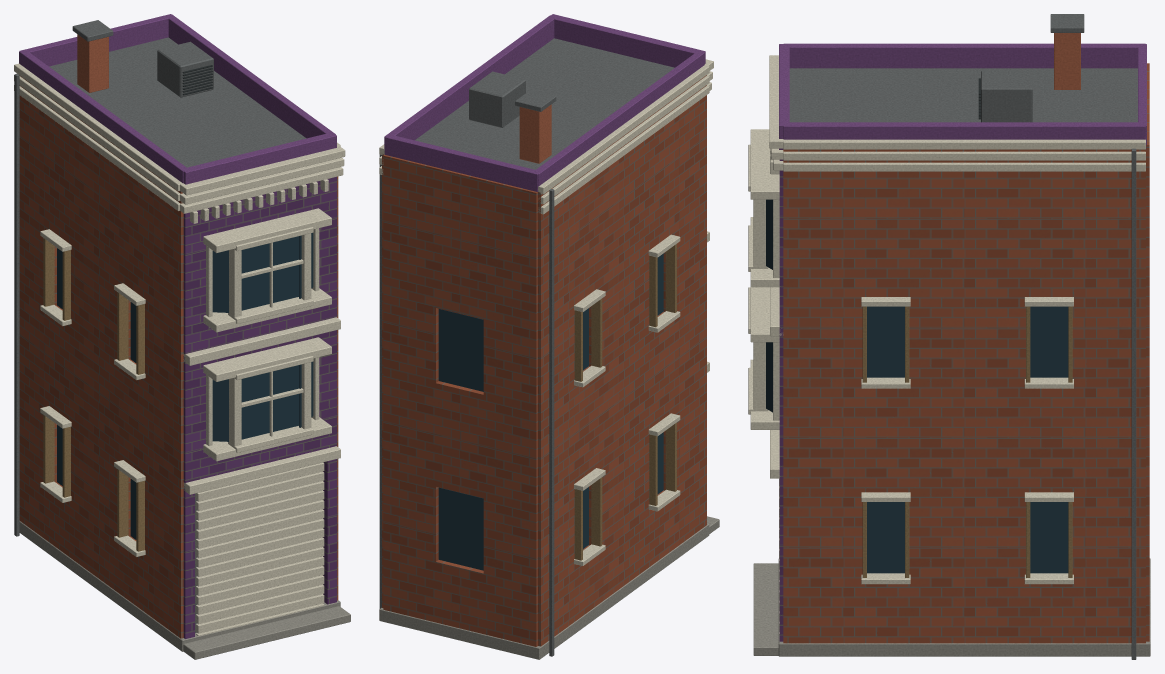
The model's file is VICT3B_lod1.glb.
The picture shows the model from 3 angles, left to right: view 1: azimuth 30°, elevation 25°; view 2: azimuth 150°, elevation 25°; view 3: azimuth 270°, elevation 25°; orthographic projection. The views are drawn at different scales.
Parts seen in each view (by area): view 1: VICT3B_LOD1; view 2: VICT3B_LOD1; view 3: VICT3B_LOD1.
Boxes of the visible parts, left/top/right/bottom form: VICT3B_LOD1: left=14, top=14, right=350, bottom=659; VICT3B_LOD1: left=379, top=14, right=719, bottom=659; VICT3B_LOD1: left=748, top=14, right=1150, bottom=659.
Size of the model in its own units: 3.71 by 10.45 by 6.65.
Materials: 11 (9 with a texture image).
